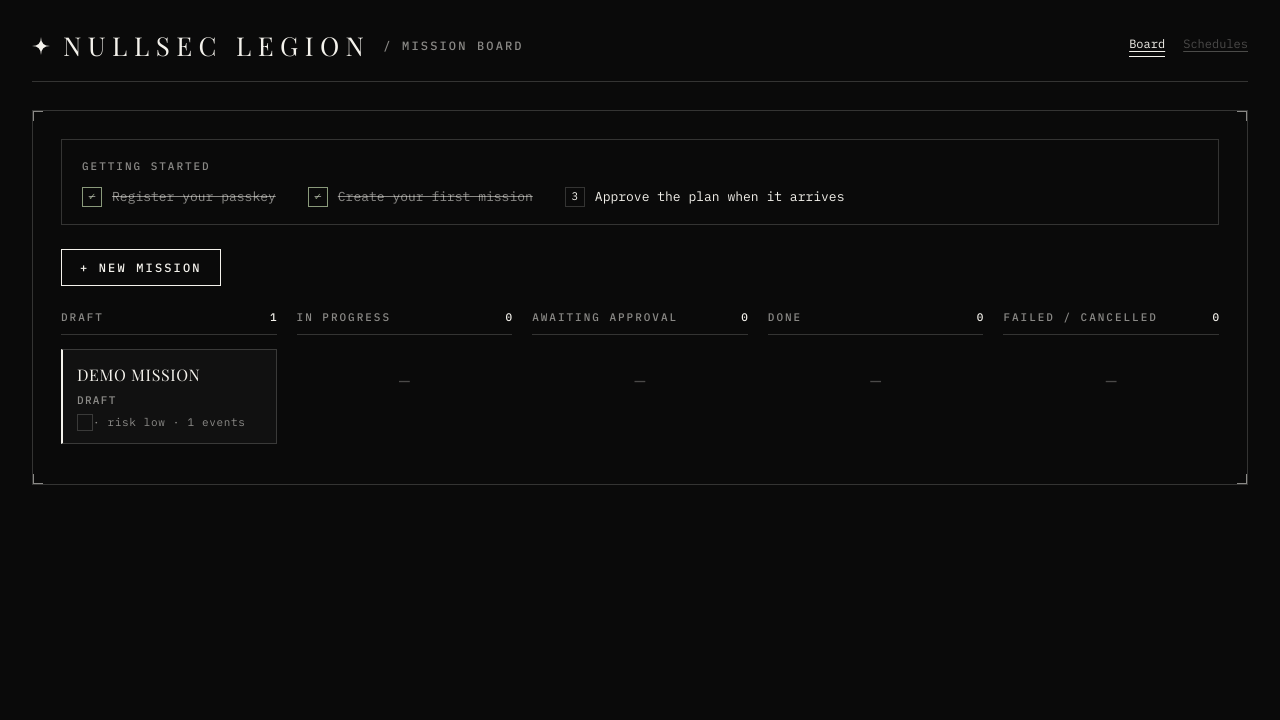
M5.5 operator UX › a forced 409 renders as a quiet sentence, not a JSON dump
Click the button "Demo mission DRAFT · risk low · 1 events" at x=169, y=396, box [61, 349, 277, 444]
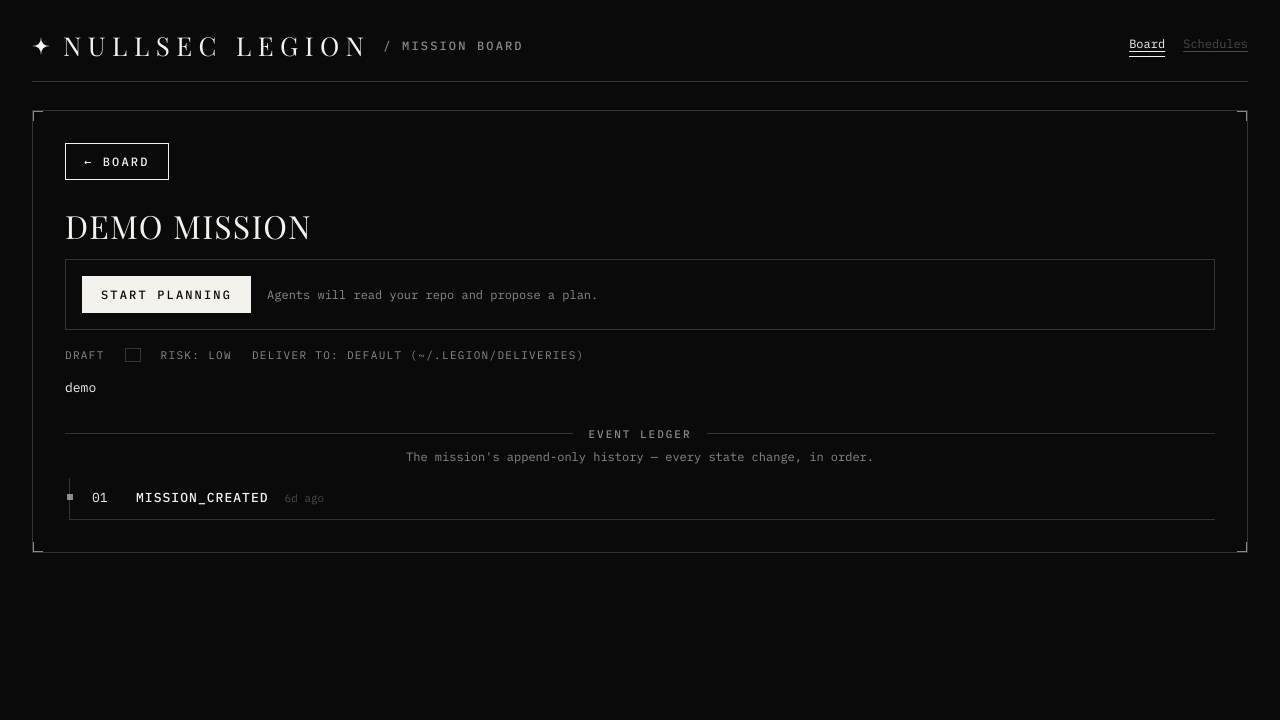
Click the button "Start planning" at x=166, y=294, box [82, 276, 251, 313]
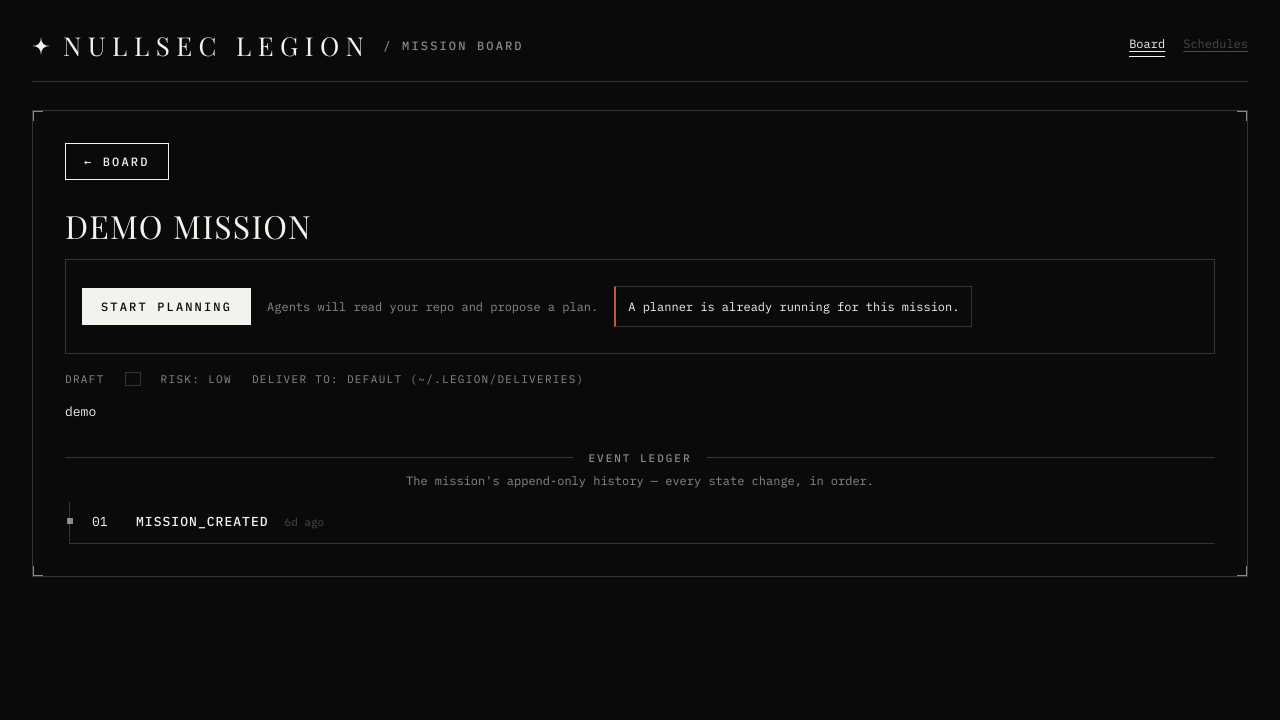
Expected: the message with class "notice" reads "A planner is already running for this mission.", [628, 299, 960, 314]
